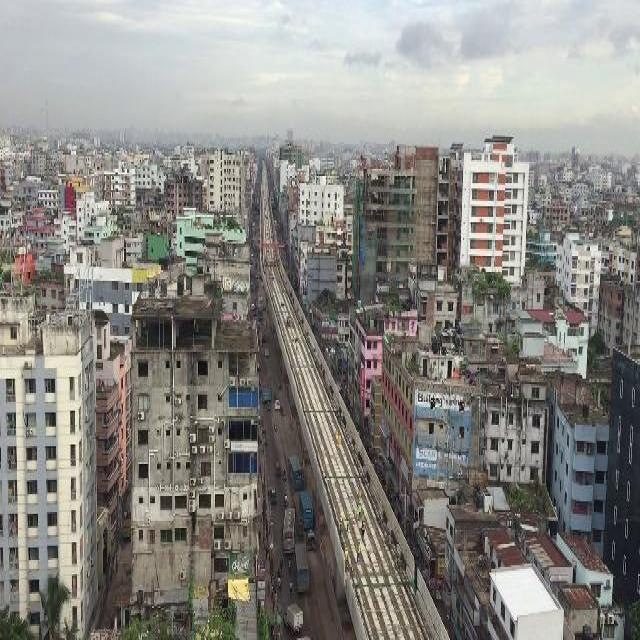bike: (285, 493, 289, 505), (284, 468, 287, 480), (275, 420, 277, 429)
vehicle: (294, 543, 310, 593), (283, 508, 295, 554), (284, 607, 305, 632), (300, 491, 314, 528), (289, 455, 303, 489), (263, 374, 272, 400), (307, 531, 316, 549), (271, 487, 277, 503), (276, 462, 281, 476), (276, 399, 281, 410), (268, 400, 272, 413), (258, 309, 263, 319), (265, 349, 270, 358), (260, 296, 264, 307), (251, 304, 255, 310)
